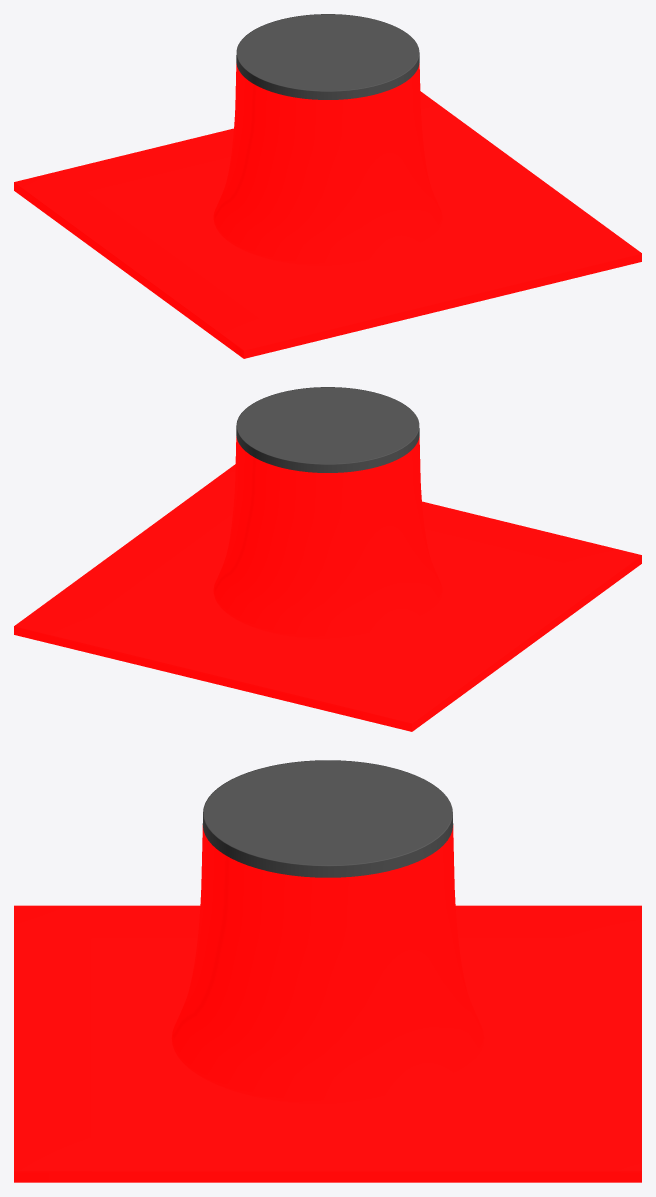
The picture shows the model from 3 angles, top to bottom: view 1: azimuth 30°, elevation 25°; view 2: azimuth 150°, elevation 25°; view 3: azimuth 270°, elevation 25°; orthographic projection. The views are drawn at different scales.
Visible parts, largest first — view 1: Link00; view 2: Link00; view 3: Link00.
Part boxes in pixels (<box>): Link00: <box>14,14,641,358</box>; Link00: <box>14,387,641,731</box>; Link00: <box>14,760,641,1182</box>.
Size of the model in its own units: 0.24 by 0.24 by 0.1.
